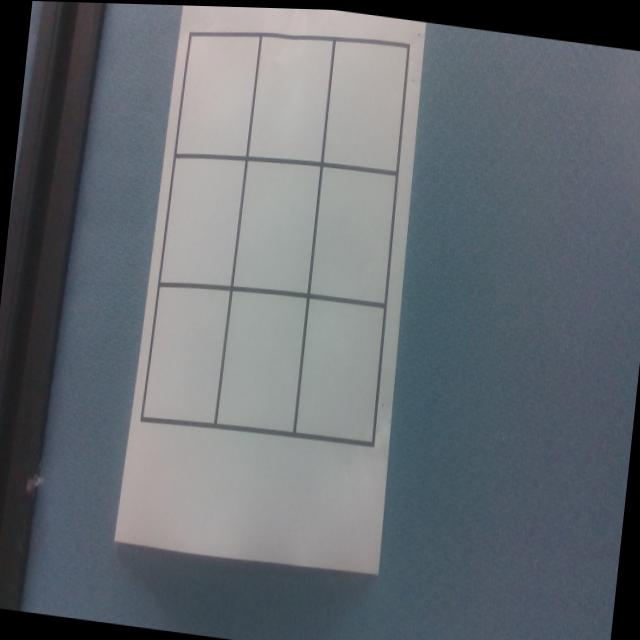null: (216, 286, 306, 434), (141, 278, 229, 428), (295, 296, 385, 442), (158, 149, 245, 297), (245, 27, 333, 170), (174, 23, 260, 169), (231, 154, 319, 296), (323, 33, 410, 176), (309, 164, 396, 305)
table: (136, 8, 417, 458)
